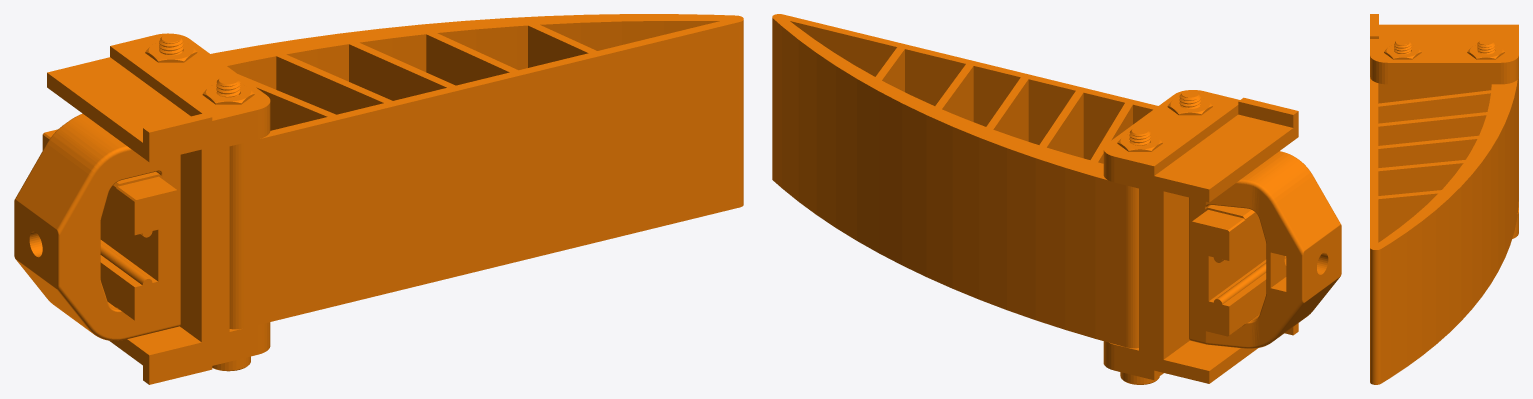
File: finger_right.obj
The picture shows the model from 3 angles, left to right: view 1: azimuth 30°, elevation 25°; view 2: azimuth 150°, elevation 25°; view 3: azimuth 270°, elevation 25°; orthographic projection. The views are drawn at different scales.
Visible parts, largest first — view 1: Finger_Right; view 2: Finger_Right; view 3: Finger_Right.
Part boxes in pixels (x1=…): Finger_Right: x1=14, y1=14, x2=743, y2=384; Finger_Right: x1=772, y1=14, x2=1341, y2=384; Finger_Right: x1=1370, y1=14, x2=1518, y2=384.
Bounding box in the file's own units: 94.15 × 38 × 25.
